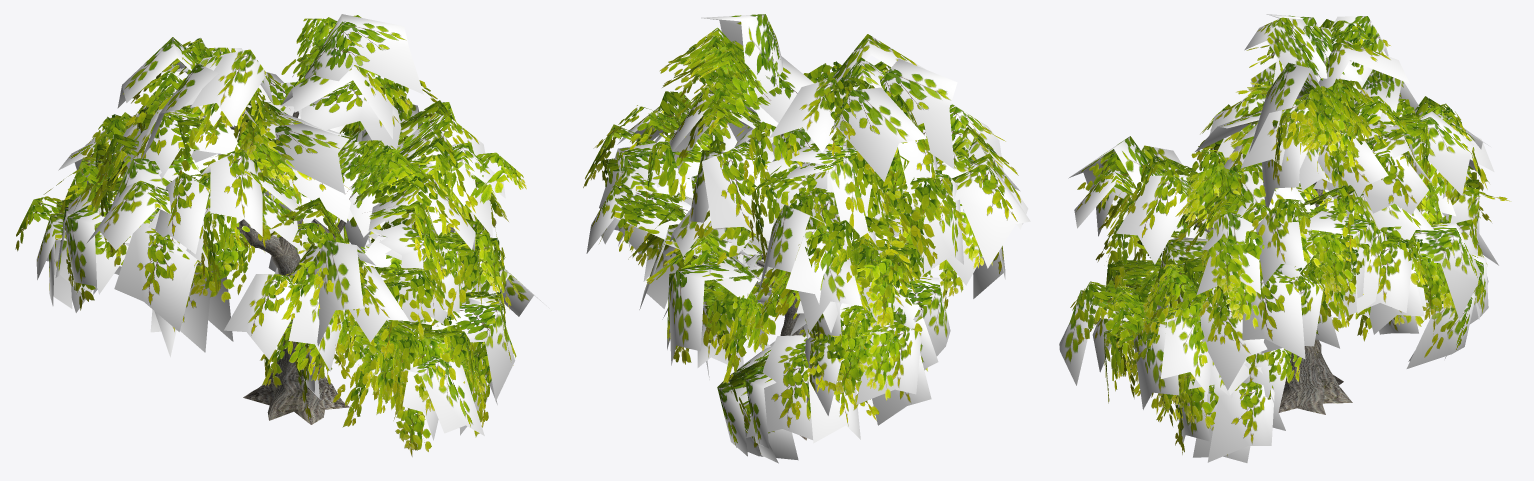
Rendered from arbre1.fbx.
3 renders of one model, left to right at view 1: azimuth 30°, elevation 25°; view 2: azimuth 150°, elevation 25°; view 3: azimuth 270°, elevation 25°, orthographic. The views are drawn at different scales.
Visible parts, largest first — view 1: polySurface178; view 2: polySurface178; view 3: polySurface178.
Boxes of the visible parts, x1,y1,x2,y2 form: polySurface178: (15,14,549,456); polySurface178: (583,14,1030,463); polySurface178: (1059,14,1511,462).
Size of the model in its own units: 13.08 by 12.35 by 14.02.
